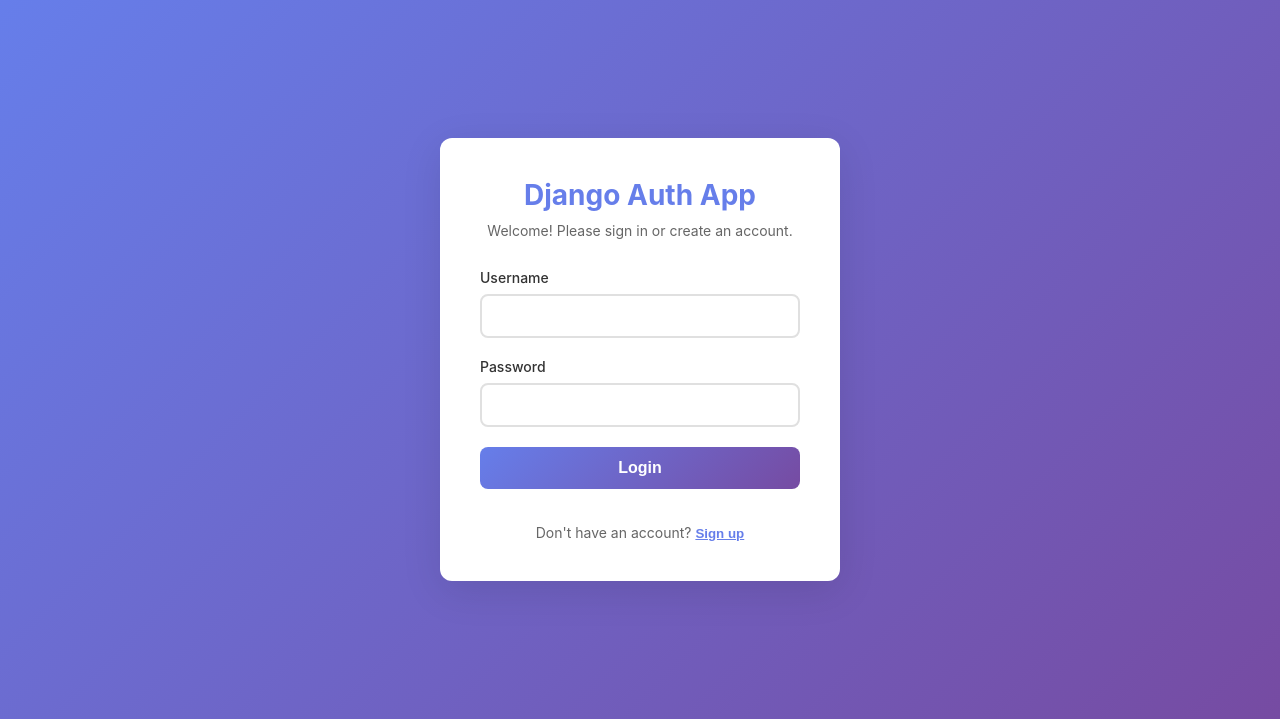
App Component › switches between login and signup forms
Expected: the field labelled "Username" is shown, [480, 294, 800, 338]
Expected: the button "Login" is shown, [480, 446, 800, 488]
// Switch to signup
Click the button "Sign up": (720, 533) [695, 526, 744, 540]
(page scrolled)
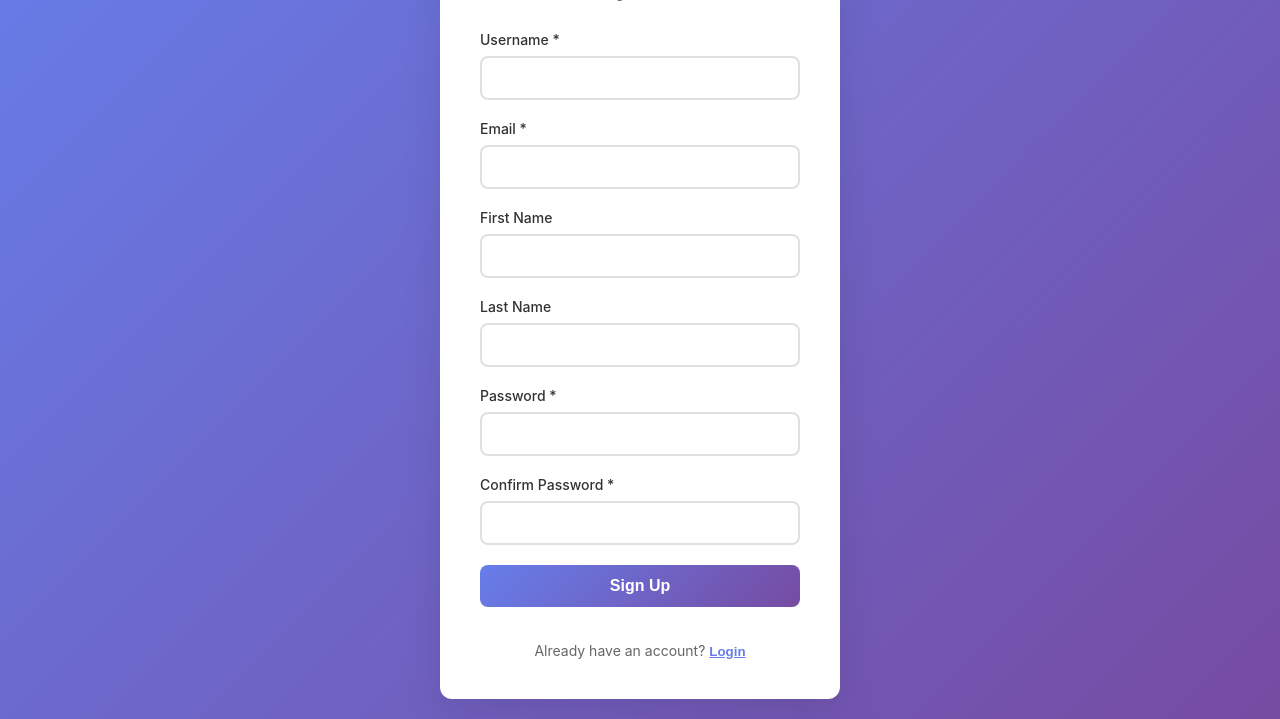
Expected: the field labelled "Email *" is shown, [480, 145, 800, 189]
Expected: the password field labelled "Confirm Password *" is shown, [480, 501, 800, 545]
Expected: the button "Sign Up" is shown, [480, 565, 800, 607]
// Switch back to login
Click the button "Login": (727, 652) [709, 644, 746, 659]
(page scrolled)
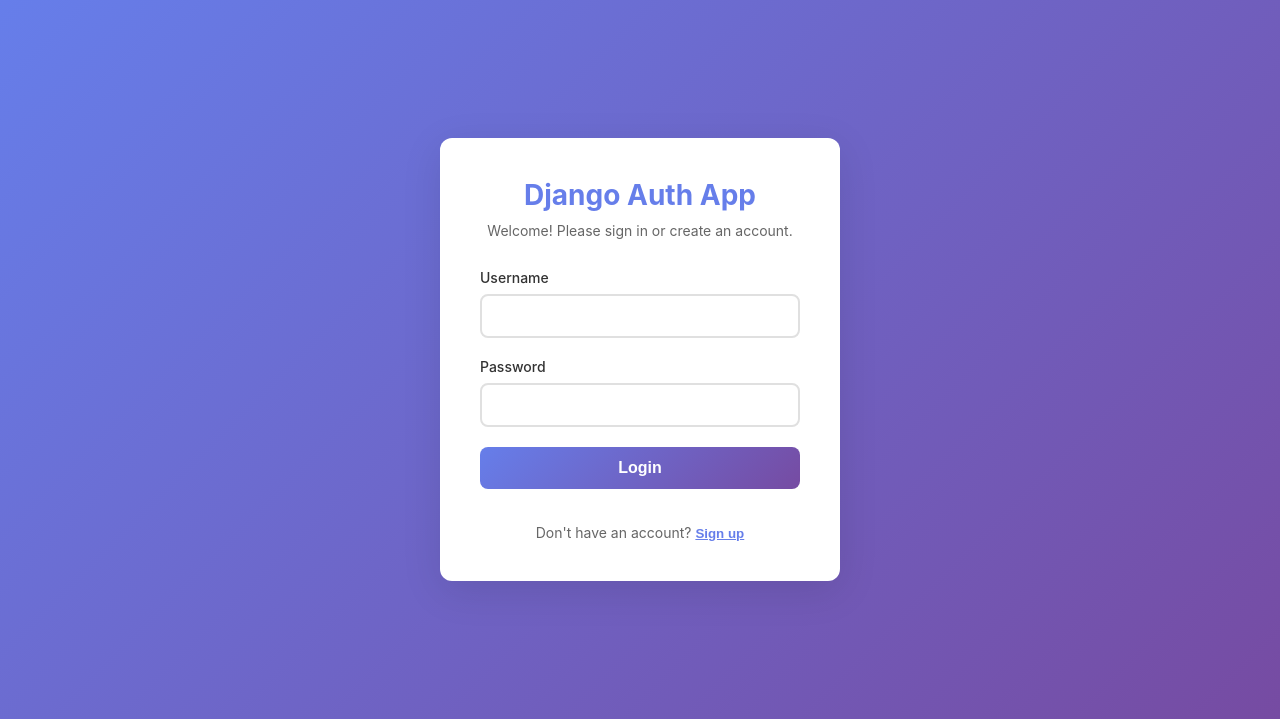
Expected: the field labelled "Username" is shown, [480, 294, 800, 338]
Expected: the label labelled "Email" is gone
